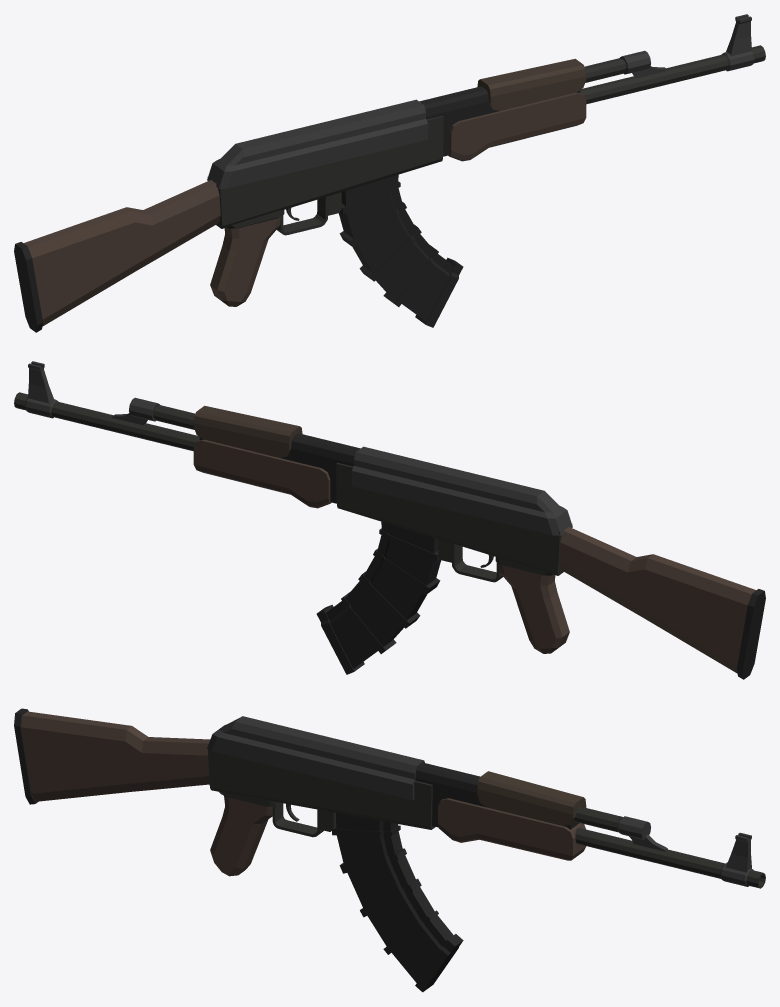
The model's file is akwood.glb.
3 views of the same model, one above another, from view 1: azimuth 30°, elevation 25°; view 2: azimuth 150°, elevation 25°; view 3: azimuth 330°, elevation 25° (orthographic).
Visible parts, largest first — view 1: AssaultRifle_2; view 2: AssaultRifle_2; view 3: AssaultRifle_2.
Boxes of the visible parts, box(x1,y1,x2,y2) form: AssaultRifle_2: box(14, 14, 765, 332); AssaultRifle_2: box(14, 361, 765, 679); AssaultRifle_2: box(14, 708, 765, 992).
Bounding box in the file's own units: 5.42 × 1.6 × 0.1959.
